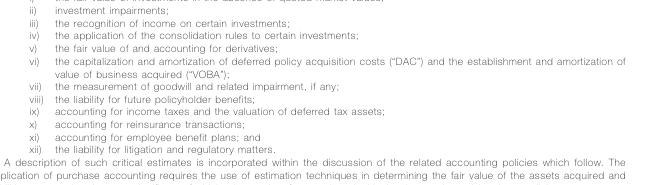table: (28, 29, 624, 154)
table column: (48, 29, 624, 154), (28, 29, 48, 154)
table row: (28, 53, 624, 79), (28, 91, 624, 104), (28, 104, 624, 117), (28, 129, 624, 142), (28, 29, 624, 41), (28, 41, 624, 53), (28, 79, 624, 91), (28, 117, 624, 129), (28, 142, 624, 154)
